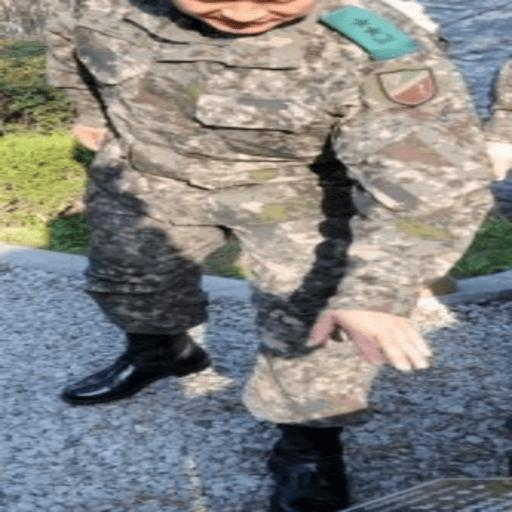korea army: (62, 0, 501, 417)
